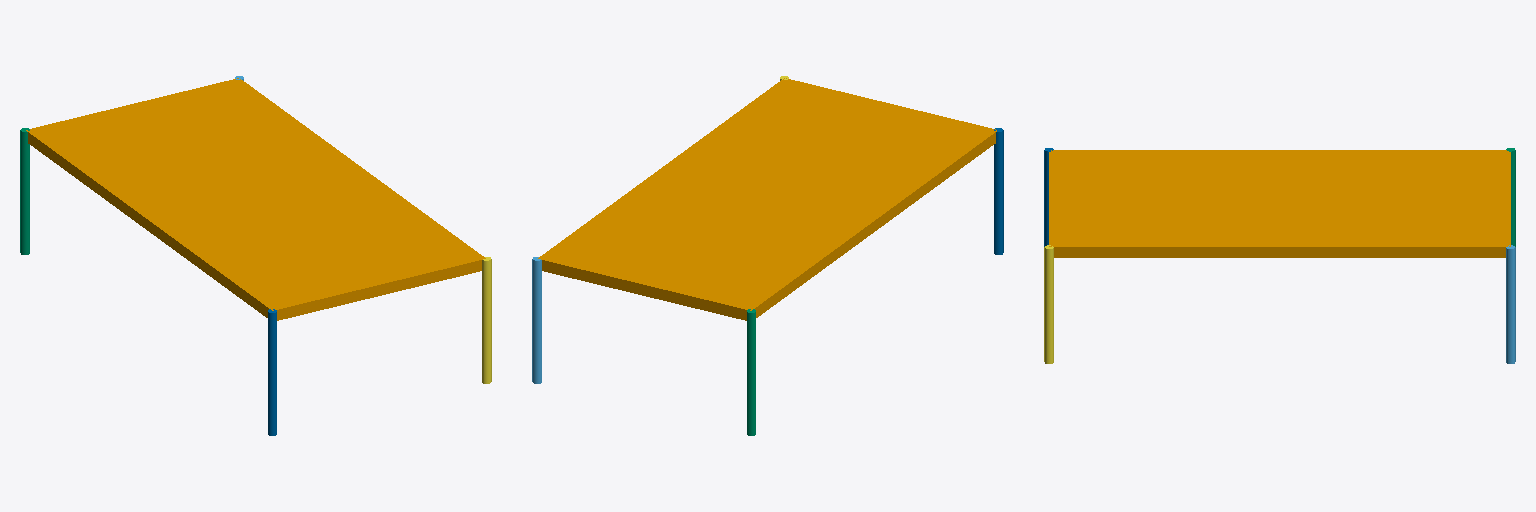
The robot description file, URDF, robot "table":
<?xml version="1.0" ?>
<!-- =================================================================================== -->
<!-- |    This document was autogenerated by xacro from /opt/ros/fuerte/stacks/simulator_gazebo/gazebo_worlds/objects/table.urdf.xacro | -->
<!-- |    EDITING THIS FILE BY HAND IS NOT RECOMMENDED                                 | -->
<!-- =================================================================================== -->
<robot name="table" xmlns:body="http://playerstage.sourceforge.net/gazebo/xmlschema/#body" xmlns:controller="http://playerstage.sourceforge.net/gazebo/xmlschema/#controller" xmlns:gazebo="http://playerstage.sourceforge.net/gazebo/xmlschema/#gz" xmlns:geom="http://playerstage.sourceforge.net/gazebo/xmlschema/#geom" xmlns:interface="http://playerstage.sourceforge.net/gazebo/xmlschema/#interface" xmlns:joint="http://playerstage.sourceforge.net/gazebo/xmlschema/#joint" xmlns:model="http://playerstage.sourceforge.net/gazebo/xmlschema/#model" xmlns:physics="http://playerstage.sourceforge.net/gazebo/xmlschema/#physics" xmlns:renderable="http://playerstage.sourceforge.net/gazebo/xmlschema/#renderable" xmlns:rendering="http://playerstage.sourceforge.net/gazebo/xmlschema/#rendering" xmlns:sensor="http://playerstage.sourceforge.net/gazebo/xmlschema/#sensor" xmlns:xi="http://www.w3.org/2001/XInclude">
  <!-- tabletop height is .55+.01+.025=.585 -->
  <link name="table_top_link">
    <inertial>
      <mass value="1.0"/>
      <origin xyz="0.0 0.0 0.525"/>
      <inertia ixx="1" ixy="0" ixz="0" iyy="1" iyz="0" izz="1"/>
    </inertial>
    <visual>
      <origin xyz="0.0 0.0 0.525"/>
      <geometry>
        <box size="1.0 2.0 0.05"/>
      </geometry>
    </visual>
    <collision>
      <origin xyz="0.0 0.0 0.525"/>
      <geometry>
        <box size="1.0 2.0 0.05"/>
      </geometry>
    </collision>
  </link>
  <gazebo reference="table_top_link">
    <material>Gazebo/Wood</material>
    <mu1>50.0</mu1>
    <mu2>50.0</mu2>
    <kp>1000000.0</kp>
    <kd>1.0</kd>
  </gazebo>
  <joint name="leg1_joint" type="fixed">
    <parent link="table_top_link"/>
    <origin rpy="0 0 0" xyz="0.5 1.0 0.55"/>
    <child link="leg1_link"/>
  </joint>
  <link name="leg1_link">
    <inertial>
      <mass value="1.0"/>
      <origin xyz="0 0 -0.275"/>
      <inertia ixx="0.1" ixy="0" ixz="0" iyy="0.1" iyz="0" izz="0.01"/>
    </inertial>
    <visual>
      <origin rpy="0 0 0" xyz="0.0 0.0 -0.275"/>
      <geometry>
        <cylinder length="0.55" radius="0.02"/>
      </geometry>
    </visual>
    <collision>
      <origin rpy="0.0 0.0 0.0" xyz="0.0 0.0 -0.275"/>
      <geometry>
        <cylinder length="0.55" radius="0.02"/>
      </geometry>
    </collision>
  </link>
  <gazebo reference="leg1_link">
    <material>Gazebo/Red</material>
    <mu1>1000.0</mu1>
    <mu2>1000.0</mu2>
    <kp>10000000.0</kp>
    <kd>1.0</kd>
    <selfCollide>true</selfCollide>
  </gazebo>
  <joint name="leg2_joint" type="fixed">
    <parent link="table_top_link"/>
    <origin rpy="0 0 0" xyz="-0.5 1.0 0.55"/>
    <child link="leg2_link"/>
  </joint>
  <link name="leg2_link">
    <inertial>
      <mass value="1.0"/>
      <origin xyz="0 0 -0.275"/>
      <inertia ixx="0.1" ixy="0" ixz="0" iyy="0.1" iyz="0" izz="0.01"/>
    </inertial>
    <visual>
      <origin rpy="0 0 0" xyz="0.0 0.0 -0.275"/>
      <geometry>
        <cylinder length="0.55" radius="0.02"/>
      </geometry>
    </visual>
    <collision>
      <origin rpy="0.0 0.0 0.0" xyz="0.0 0.0 -0.275"/>
      <geometry>
        <cylinder length="0.55" radius="0.02"/>
      </geometry>
    </collision>
  </link>
  <gazebo reference="leg2_link">
    <material>Gazebo/Red</material>
    <mu1>1000.0</mu1>
    <mu2>1000.0</mu2>
    <kp>10000000.0</kp>
    <kd>1.0</kd>
    <selfCollide>true</selfCollide>
  </gazebo>
  <joint name="leg3_joint" type="fixed">
    <parent link="table_top_link"/>
    <origin rpy="0 0 0" xyz="0.5 -1.0 0.55"/>
    <child link="leg3_link"/>
  </joint>
  <link name="leg3_link">
    <inertial>
      <mass value="1.0"/>
      <origin xyz="0 0 -0.275"/>
      <inertia ixx="0.1" ixy="0" ixz="0" iyy="0.1" iyz="0" izz="0.01"/>
    </inertial>
    <visual>
      <origin rpy="0 0 0" xyz="0.0 0.0 -0.275"/>
      <geometry>
        <cylinder length="0.55" radius="0.02"/>
      </geometry>
    </visual>
    <collision>
      <origin rpy="0.0 0.0 0.0" xyz="0.0 0.0 -0.275"/>
      <geometry>
        <cylinder length="0.55" radius="0.02"/>
      </geometry>
    </collision>
  </link>
  <gazebo reference="leg3_link">
    <material>Gazebo/Red</material>
    <mu1>1000.0</mu1>
    <mu2>1000.0</mu2>
    <kp>10000000.0</kp>
    <kd>1.0</kd>
    <selfCollide>true</selfCollide>
  </gazebo>
  <joint name="leg4_joint" type="fixed">
    <parent link="table_top_link"/>
    <origin rpy="0 0 0" xyz="-0.5 -1.0 0.55"/>
    <child link="leg4_link"/>
  </joint>
  <link name="leg4_link">
    <inertial>
      <mass value="1.0"/>
      <origin xyz="0 0 -0.275"/>
      <inertia ixx="0.1" ixy="0" ixz="0" iyy="0.1" iyz="0" izz="0.01"/>
    </inertial>
    <visual>
      <origin rpy="0 0 0" xyz="0.0 0.0 -0.275"/>
      <geometry>
        <cylinder length="0.55" radius="0.02"/>
      </geometry>
    </visual>
    <collision>
      <origin rpy="0.0 0.0 0.0" xyz="0.0 0.0 -0.275"/>
      <geometry>
        <cylinder length="0.55" radius="0.02"/>
      </geometry>
    </collision>
  </link>
  <gazebo reference="leg4_link">
    <material>Gazebo/Red</material>
    <mu1>1000.0</mu1>
    <mu2>1000.0</mu2>
    <kp>10000000.0</kp>
    <kd>1.0</kd>
    <selfCollide>true</selfCollide>
  </gazebo>
  <gazebo>
    <static>true</static>
    <canonicalBody>table_top_link</canonicalBody>
  </gazebo>
</robot>

--- Render facts (derived) ---
The picture shows the robot from 3 angles, left to right: view 1: azimuth 30°, elevation 25°; view 2: azimuth 150°, elevation 25°; view 3: azimuth 270°, elevation 25°; orthographic projection.
Robot: table — 5 links, 4 joints (4 fixed); root link table_top_link; default pose: every joint at zero.
Visible links, largest first — view 1: table_top_link, leg3_link, leg2_link, leg4_link; view 2: table_top_link, leg1_link, leg4_link, leg2_link; view 3: table_top_link, leg3_link, leg1_link.
Link boxes in pixels (bbox=[...]): table_top_link: bbox=[26, 78, 485, 320]; leg3_link: bbox=[482, 257, 491, 383]; leg2_link: bbox=[20, 128, 29, 254]; leg4_link: bbox=[268, 309, 276, 435]; table_top_link: bbox=[538, 78, 996, 320]; leg1_link: bbox=[532, 257, 541, 383]; leg4_link: bbox=[994, 128, 1003, 254]; leg2_link: bbox=[747, 309, 755, 435]; table_top_link: bbox=[1049, 150, 1510, 257]; leg3_link: bbox=[1044, 245, 1053, 363]; leg1_link: bbox=[1506, 245, 1515, 363].
Size in the robot's own frame: 1.04 by 2.04 by 0.55 metres.
Geometry: primitives only (box / cylinder / sphere), no mesh files.